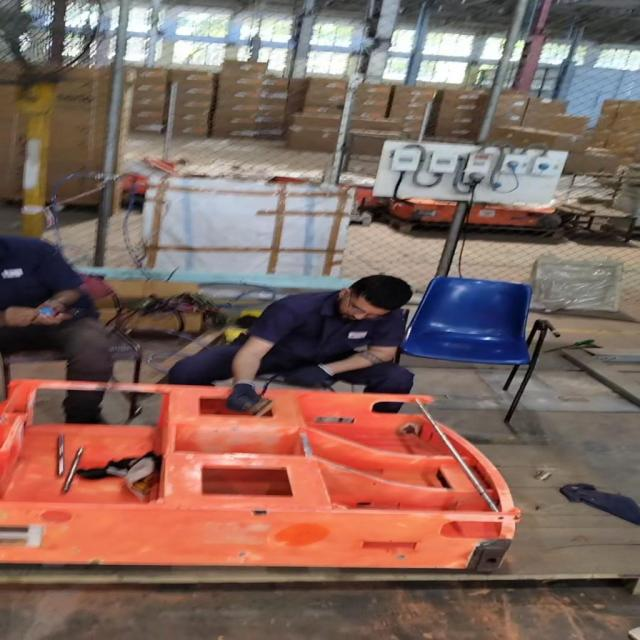Gloves-Detection: (223, 382, 271, 415), (290, 360, 330, 391)
